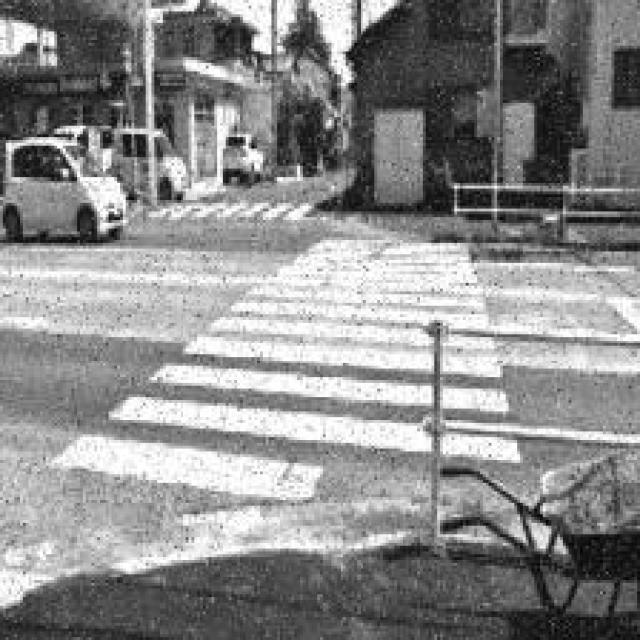walk-crossing: (70, 233, 524, 498), (133, 193, 321, 236)
